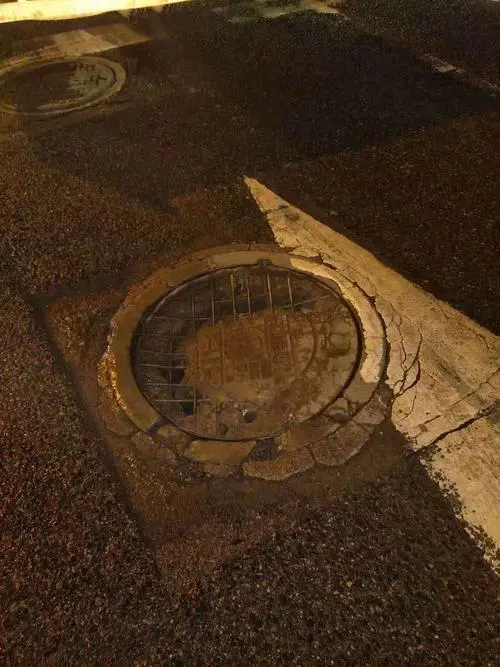circle: (47, 220, 464, 542)
